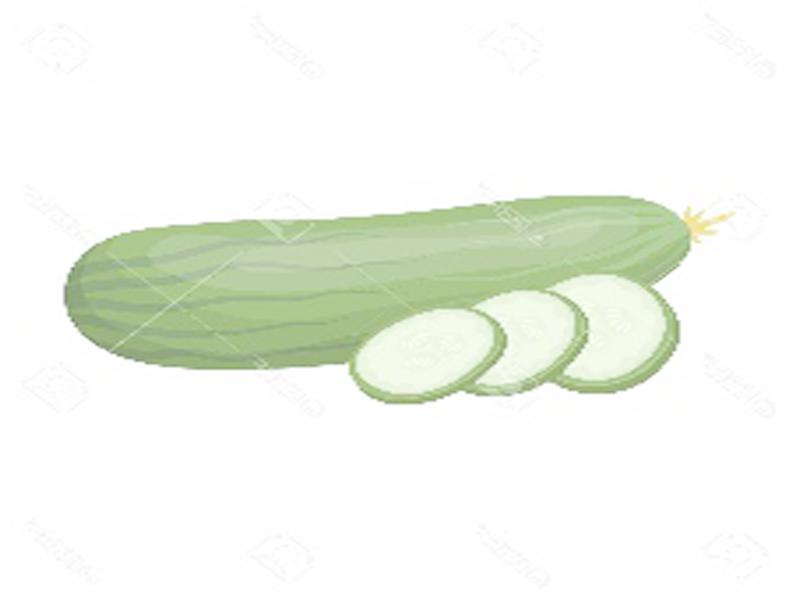Cucumber: (59, 196, 729, 370)
